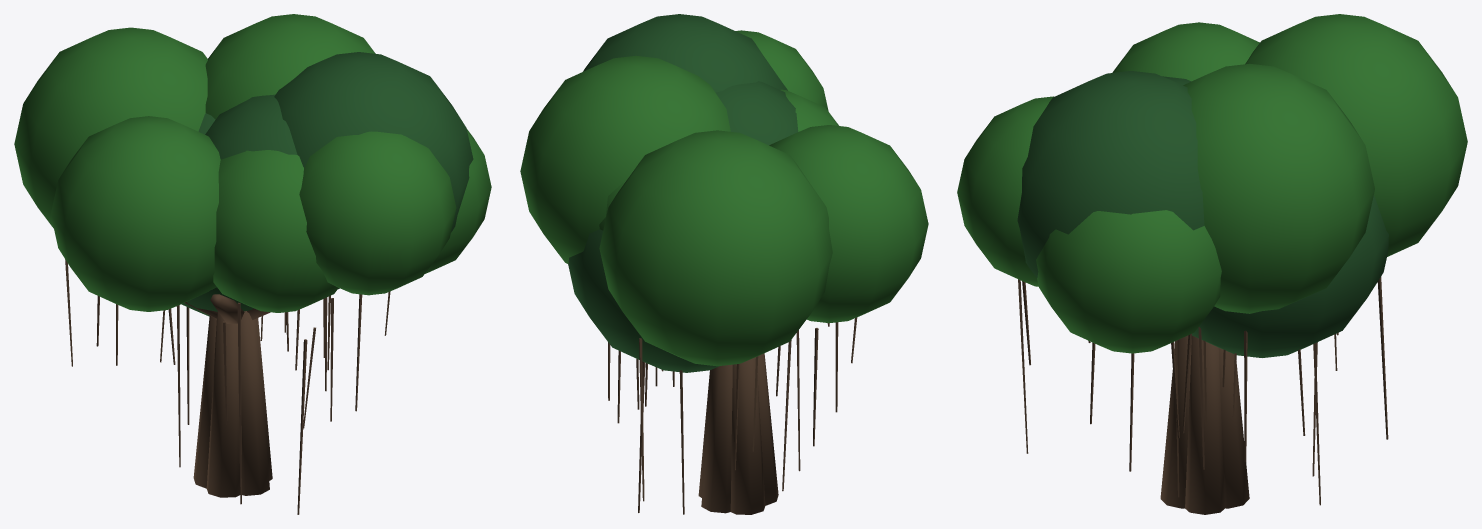
Rendered from prop_pohon_beringin.glb.
3 views of the same model, side by side, from view 1: azimuth 30°, elevation 25°; view 2: azimuth 150°, elevation 25°; view 3: azimuth 270°, elevation 25° (orthographic). The views are drawn at different scales.
Visible parts, largest first — view 1: pohon_beringin; view 2: pohon_beringin; view 3: pohon_beringin.
Part boxes in pixels (<box>): pohon_beringin: <box>14,14,491,514</box>; pohon_beringin: <box>520,14,928,514</box>; pohon_beringin: <box>957,14,1467,514</box>.
Size of the model in its own units: 10.11 by 10.65 by 10.59.
